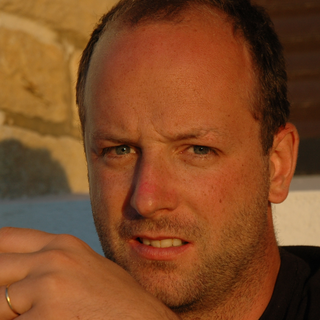eye: (172, 140, 220, 162), (100, 140, 143, 162)
